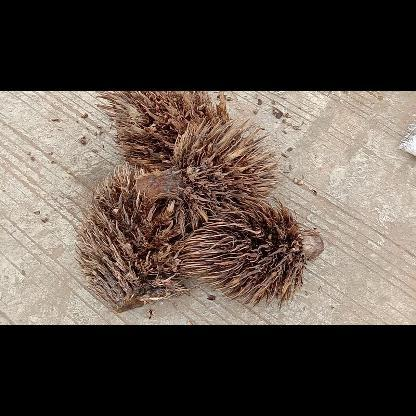Janjang kosong: (132, 119, 282, 232), (74, 162, 186, 312), (180, 196, 326, 306), (94, 92, 230, 172)
